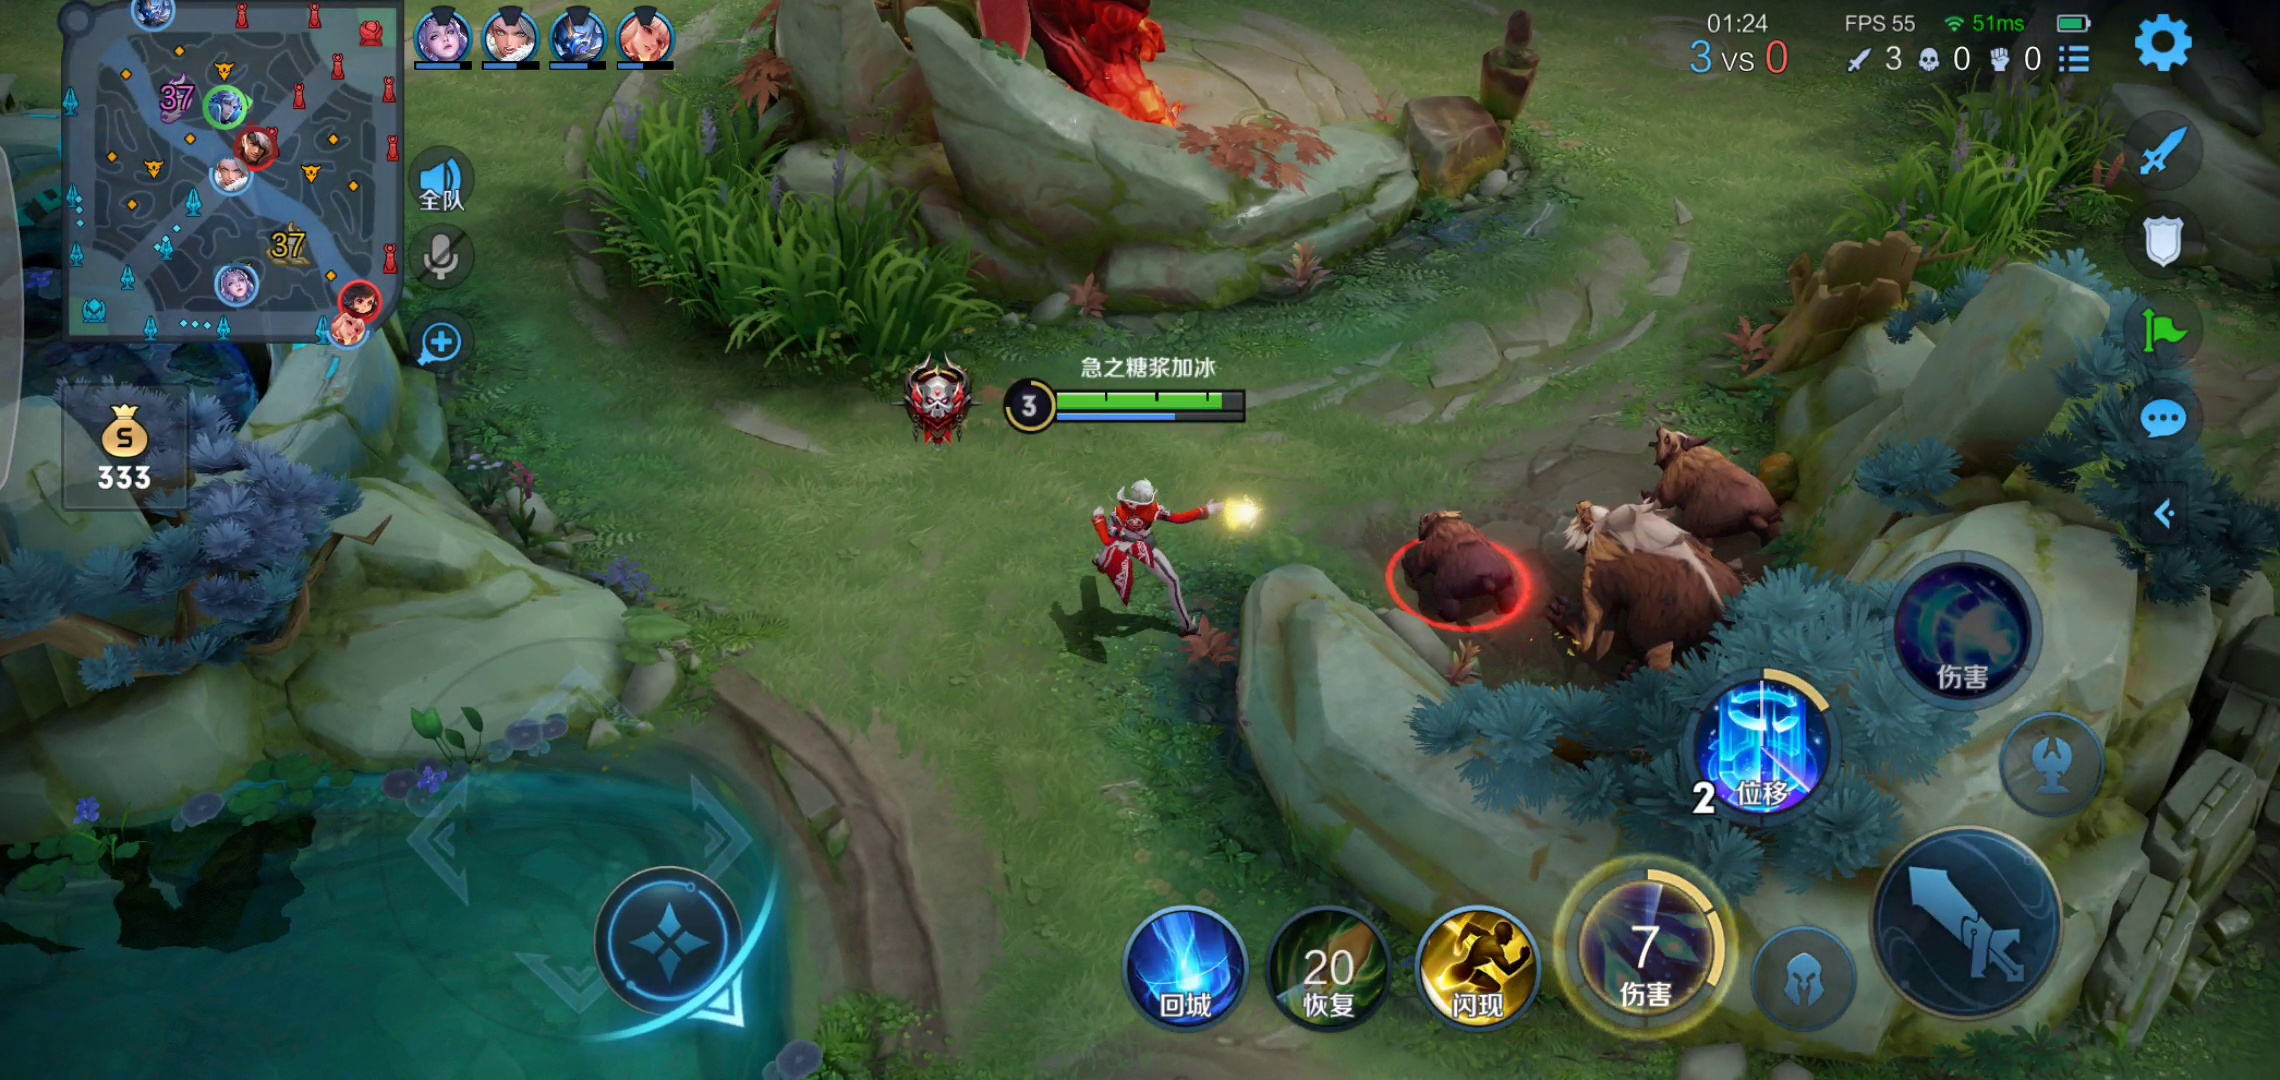buff: (979, 3, 1217, 121)
grass: (586, 94, 970, 376), (1857, 81, 2090, 286)
hero: (1075, 464, 1251, 658)
wild_monster: (1386, 422, 1768, 672)
